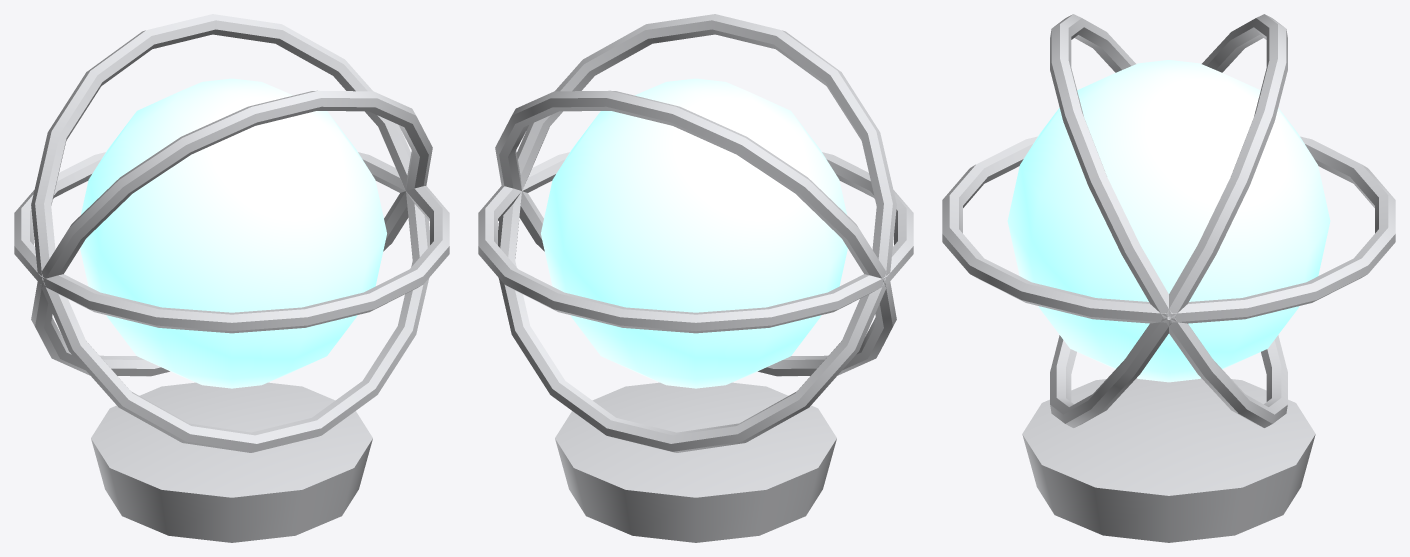
Rendered from wisp_mote.glb.
3 views of the same model, side by side, from view 1: azimuth 30°, elevation 25°; view 2: azimuth 150°, elevation 25°; view 3: azimuth 270°, elevation 25° (orthographic). The views are drawn at different scales.
Parts seen in each view (by area): view 1: wisp_mote; view 2: wisp_mote; view 3: wisp_mote.
Boxes of the visible parts, x1,y1,x2,y2 form: wisp_mote: (14, 14, 449, 542); wisp_mote: (478, 14, 913, 542); wisp_mote: (942, 14, 1395, 542).
Size of the model in its own units: 0.0627 by 0.0671 by 0.0618.
